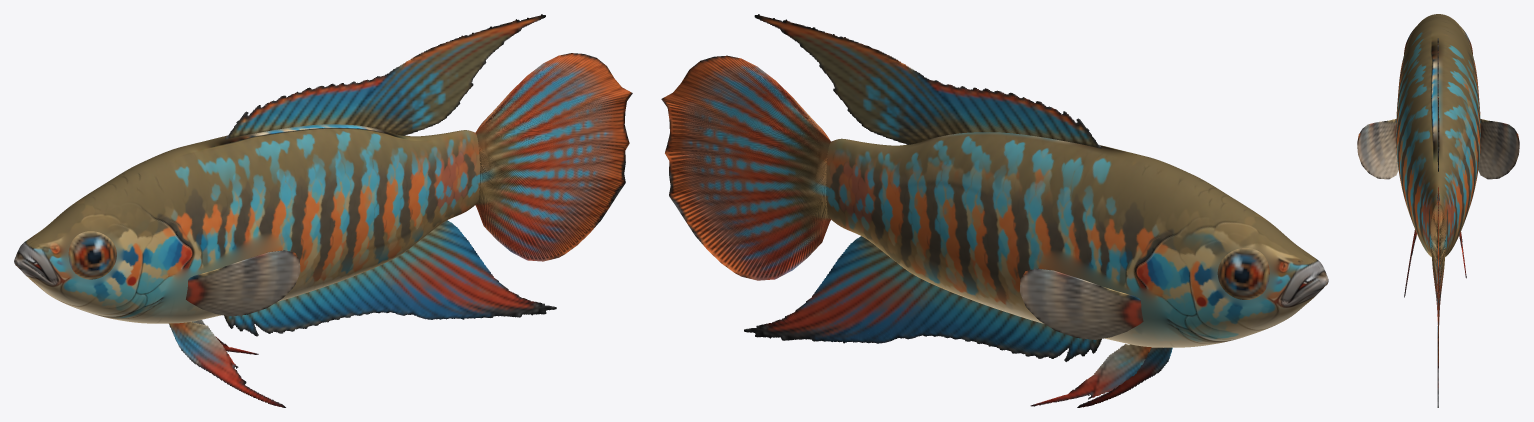
The model's file is chousenbuna.glb.
The picture shows the model from 3 angles, left to right: view 1: azimuth 30°, elevation 25°; view 2: azimuth 150°, elevation 25°; view 3: azimuth 270°, elevation 25°; orthographic projection. The views are drawn at different scales.
Visible parts, largest first — view 1: Body_continuous_skin, Rounded_caudal_fin, Anal_fin_extended, Dorsal_fin_extended, Pectoral_port, Pelvic_port, Eye_port; view 2: Body_continuous_skin, Rounded_caudal_fin, Anal_fin_extended, Dorsal_fin_extended, Pectoral_starboard, Pelvic_starboard, Eye_starboard, Pelvic_port; view 3: Body_continuous_skin, Pectoral_port, Pectoral_starboard, Rounded_caudal_fin, Dorsal_fin_extended.
Boxes of the visible parts, x1=… form: Body_continuous_skin: x1=15, y1=124, x2=479, y2=323; Rounded_caudal_fin: x1=475, y1=53, x2=632, y2=261; Anal_fin_extended: x1=224, y1=220, x2=556, y2=336; Dorsal_fin_extended: x1=225, y1=14, x2=545, y2=139; Pectoral_port: x1=186, y1=250, x2=300, y2=316; Pelvic_port: x1=169, y1=322, x2=285, y2=407; Eye_port: x1=68, y1=231, x2=116, y2=279; Body_continuous_skin: x1=826, y1=132, x2=1327, y2=347; Rounded_caudal_fin: x1=661, y1=55, x2=830, y2=280; Anal_fin_extended: x1=744, y1=236, x2=1101, y2=361; Dorsal_fin_extended: x1=754, y1=14, x2=1101, y2=148; Pectoral_starboard: x1=1020, y1=268, x2=1143, y2=339; Pelvic_starboard: x1=1030, y1=344, x2=1151, y2=406; Eye_starboard: x1=1217, y1=248, x2=1269, y2=299; Pelvic_port: x1=1077, y1=347, x2=1172, y2=407; Body_continuous_skin: x1=1396, y1=14, x2=1480, y2=256; Pectoral_port: x1=1357, y1=119, x2=1398, y2=179; Pectoral_starboard: x1=1478, y1=119, x2=1519, y2=179; Rounded_caudal_fin: x1=1431, y1=186, x2=1445, y2=365; Dorsal_fin_extended: x1=1437, y1=38, x2=1439, y2=171.
Size of the model in its own units: 0.08 by 0.0388 by 0.0209.
Materials: 1 (1 with a texture image).
